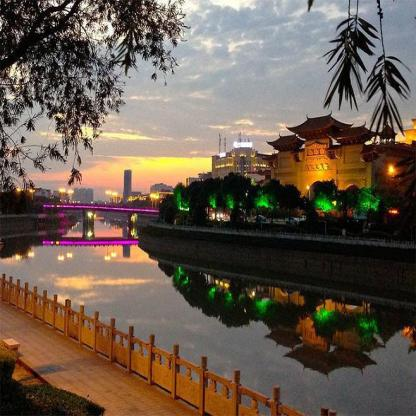other: (116, 148, 210, 182)
